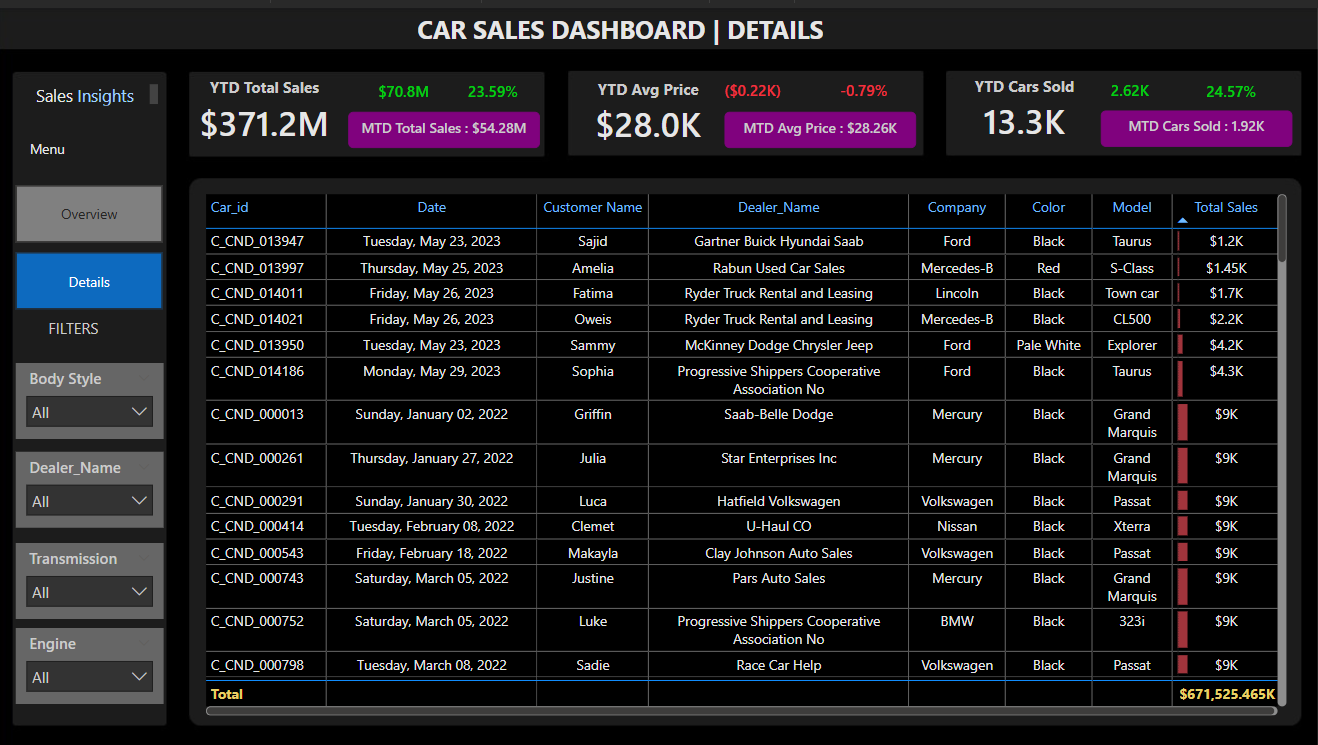

The page's visual inventory and layout, read from the dashboard file:
{"tool":"powerbi","page":{"name":"Details","canvas":[1280,720],"ordinal":1},"visuals":[{"type":"card","title":"YTD Total Sales","fields":{"Values":["Key Measures.YTD Total Sales"]},"box":[185.2,66.6,147.7,69],"z":0},{"type":"card","fields":{"Values":["Key Measures.Sales Difference"]},"box":[353.5,65.4,81.1,36.3],"z":1000},{"type":"card","fields":{"Values":["Key Measures.YOY Sales Growth"]},"box":[434.6,65.4,92,36.3],"z":2000},{"type":"card","fields":{"Values":["Key Measures.MTD KPI"]},"box":[340.1,100.5,185.2,35.1],"z":3000},{"type":"card","title":"YTD Avg Price","fields":{"Values":["Key Measures.YTD Avg Price"]},"box":[556.8,67.8,147.7,69],"z":4000},{"type":"card","fields":{"Values":["Key Measures.Avg Sales Difference"]},"box":[691.2,64.2,81.1,36.3],"z":5000},{"type":"card","fields":{"Values":["Key Measures.YOY Growth Price"]},"box":[798.9,64.2,81.1,36.3],"z":6000},{"type":"card","fields":{"Values":["Key Measures.MTD Price KPI"]},"box":[704.5,100.5,185.2,35.1],"z":7000},{"type":"card","title":"YTD Cars Sold","fields":{"Values":["Key Measures.YTD Cars Sold"]},"box":[921.2,65.4,147.7,69],"z":8000},{"type":"card","fields":{"Values":["Key Measures.Cars Sold Difference"]},"box":[1056.8,64.2,81.1,36.3],"z":9000},{"type":"card","fields":{"Values":["Key Measures.YOY Cars Sold Growth"]},"box":[1154.8,65.4,81.1,35.1],"z":10000},{"type":"card","fields":{"Values":["Key Measures.MTD Cars Sold KPI"]},"box":[1068.9,99.3,185.2,35.1],"z":11000},{"type":"textbox","box":[401.9,0,476.9,46],"z":17000},{"type":"slicer","fields":{"Values":["car_data.Body Style"]},"box":[18.2,343.8,142.8,73.8],"z":18000},{"type":"slicer","fields":{"Values":["car_data.Dealer_Name"]},"box":[18.2,429.7,142.8,73.8],"z":19000},{"type":"slicer","fields":{"Values":["car_data.Transmission"]},"box":[18.2,518.1,142.8,73.8],"z":20000},{"type":"slicer","fields":{"Values":["car_data.Engine"]},"box":[18.2,600.4,142.8,73.8],"z":21000},{"type":"textbox","box":[44.8,295.4,69,30.3],"z":22000},{"type":"tableEx","fields":{"Values":["car_data.Car_id","car_data.Date","car_data.Customer Name","car_data.Dealer_Name","car_data.Company","car_data.Color","car_data.Model","car_data.Price ($)"]},"box":[196.2,175.6,1058,514.6],"z":22001},{"type":"pageNavigator","box":[18.2,171.9,142.8,121],"z":22002},{"type":"textbox","box":[32.7,69,128.3,30.3],"z":22003},{"type":"textbox","box":[26.6,122.3,70.2,30.3],"z":22004}]}

Visuals, with their boxes on the page's 1280x720 design canvas (x1, y1, x2, y2). These are canvas units, not pixel positions in the 1318x745 screenshot, which may show the page scaled, cropped or inside an application window:
"YTD Total Sales" card: {"left": 185, "top": 67, "right": 333, "bottom": 136}
card - Key Measures.Sales Difference: {"left": 354, "top": 65, "right": 435, "bottom": 102}
card - Key Measures.YOY Sales Growth: {"left": 435, "top": 65, "right": 527, "bottom": 102}
card - Key Measures.MTD KPI: {"left": 340, "top": 100, "right": 525, "bottom": 136}
"YTD Avg Price" card: {"left": 557, "top": 68, "right": 704, "bottom": 137}
card - Key Measures.Avg Sales Difference: {"left": 691, "top": 64, "right": 772, "bottom": 100}
card - Key Measures.YOY Growth Price: {"left": 799, "top": 64, "right": 880, "bottom": 100}
card - Key Measures.MTD Price KPI: {"left": 704, "top": 100, "right": 890, "bottom": 136}
"YTD Cars Sold" card: {"left": 921, "top": 65, "right": 1069, "bottom": 134}
card - Key Measures.Cars Sold Difference: {"left": 1057, "top": 64, "right": 1138, "bottom": 100}
card - Key Measures.YOY Cars Sold Growth: {"left": 1155, "top": 65, "right": 1236, "bottom": 100}
card - Key Measures.MTD Cars Sold KPI: {"left": 1069, "top": 99, "right": 1254, "bottom": 134}
textbox: {"left": 402, "top": 0, "right": 879, "bottom": 46}
slicer - car_data.Body Style: {"left": 18, "top": 344, "right": 161, "bottom": 418}
slicer - car_data.Dealer_Name: {"left": 18, "top": 430, "right": 161, "bottom": 504}
slicer - car_data.Transmission: {"left": 18, "top": 518, "right": 161, "bottom": 592}
slicer - car_data.Engine: {"left": 18, "top": 600, "right": 161, "bottom": 674}
textbox: {"left": 45, "top": 295, "right": 114, "bottom": 326}
tableEx - car_data.Car_id x car_data.Date: {"left": 196, "top": 176, "right": 1254, "bottom": 690}
pageNavigator: {"left": 18, "top": 172, "right": 161, "bottom": 293}
textbox: {"left": 33, "top": 69, "right": 161, "bottom": 99}
textbox: {"left": 27, "top": 122, "right": 97, "bottom": 153}
